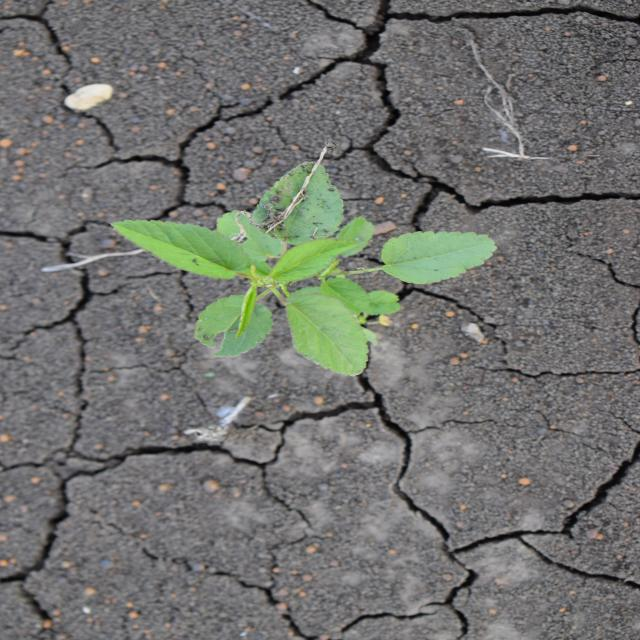PricklySida: (106, 159, 499, 379)
